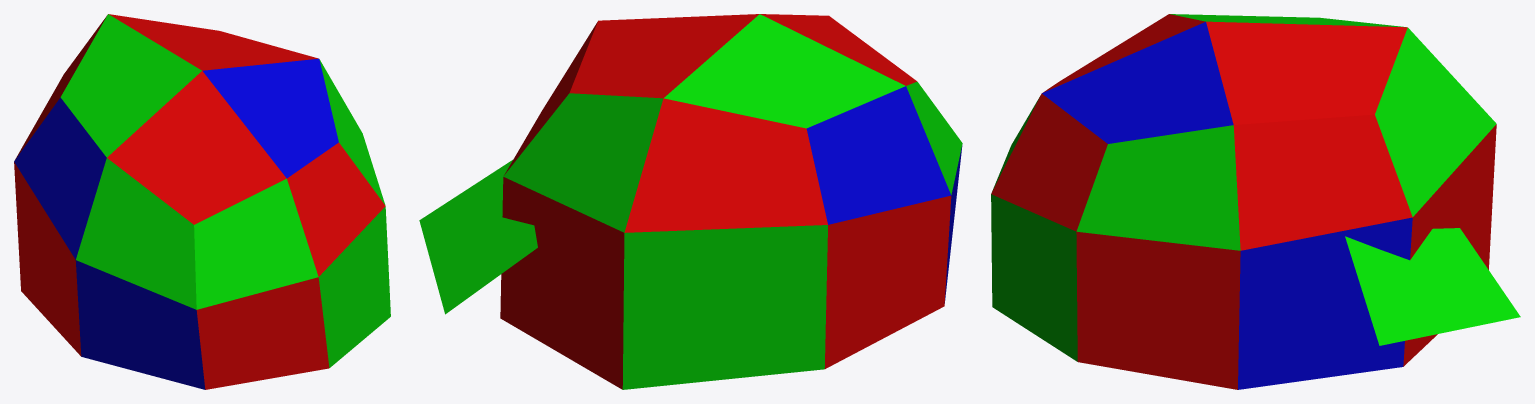
File: Bush_B_01.fbx
3 views of the same model, side by side, from view 1: azimuth 30°, elevation 25°; view 2: azimuth 150°, elevation 25°; view 3: azimuth 270°, elevation 25° (orthographic). The views are drawn at different scales.
Parts seen in each view (by area): view 1: Bush_B_01; view 2: Bush_B_01; view 3: Bush_B_01.
Part boxes in pixels (x1,y1,x2,y2): Bush_B_01: [14, 14, 390, 389]; Bush_B_01: [419, 14, 962, 389]; Bush_B_01: [991, 14, 1520, 389].
Size of the model in its own units: 0.5474 by 0.3363 by 0.6024.
